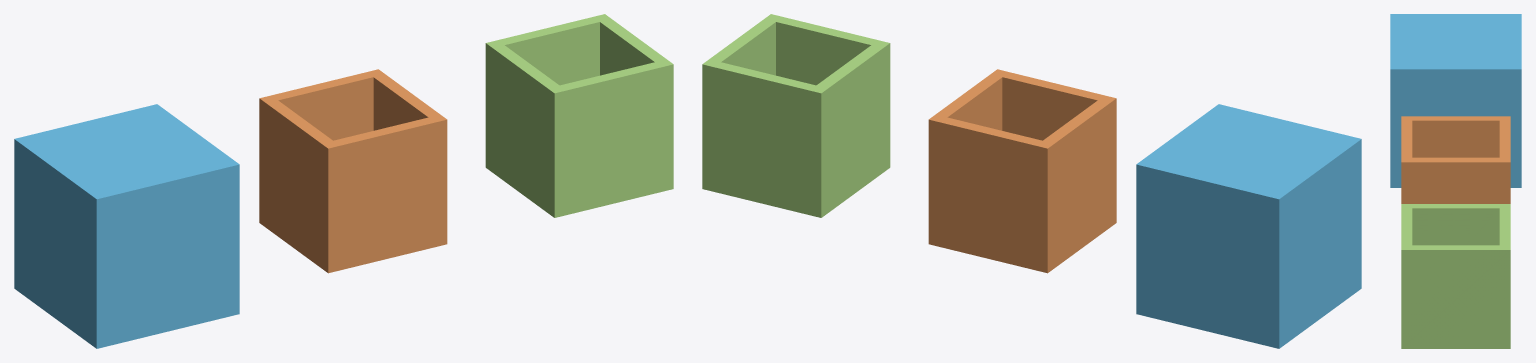
The model's file is offset_shell.glb.
3 views of the same model, side by side, from view 1: azimuth 30°, elevation 25°; view 2: azimuth 150°, elevation 25°; view 3: azimuth 270°, elevation 25° (orthographic). The views are drawn at different scales.
Parts seen in each view (by area): view 1: expanded, tube, cup; view 2: expanded, tube, cup; view 3: tube, expanded, cup.
Boxes of the visible parts, x1=… form: expanded: x1=14, y1=104, x2=239, y2=348; tube: x1=485, y1=14, x2=673, y2=217; cup: x1=259, y1=69, x2=447, y2=273; expanded: x1=1136, y1=104, x2=1361, y2=348; tube: x1=702, y1=14, x2=890, y2=217; cup: x1=928, y1=69, x2=1116, y2=273; tube: x1=1401, y1=204, x2=1510, y2=348; expanded: x1=1390, y1=14, x2=1521, y2=187; cup: x1=1401, y1=116, x2=1510, y2=203.
Bounding box in the file's own units: 49 × 12 × 12.
